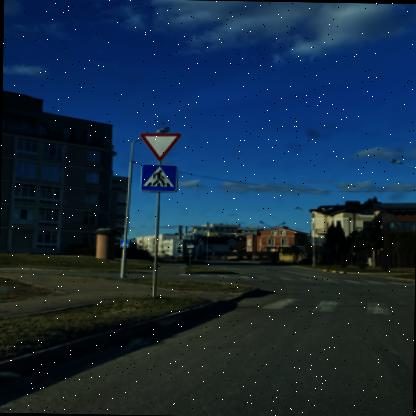crosswalk: (142, 162, 180, 190)
